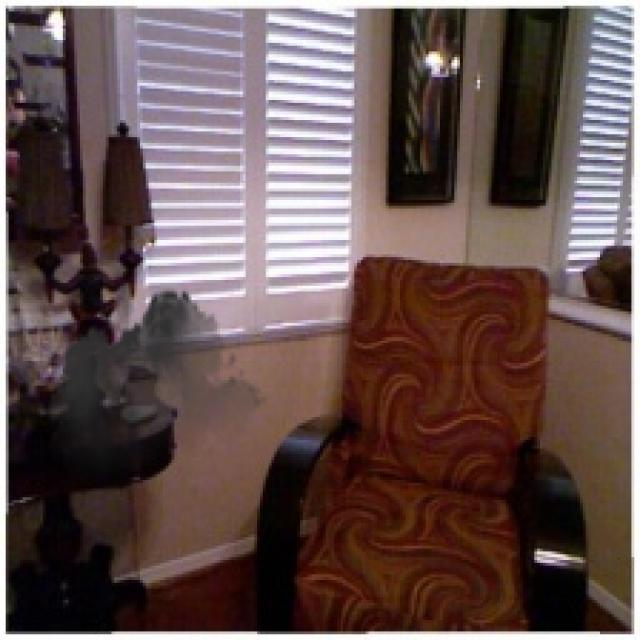Smoke: (42, 280, 268, 509)
